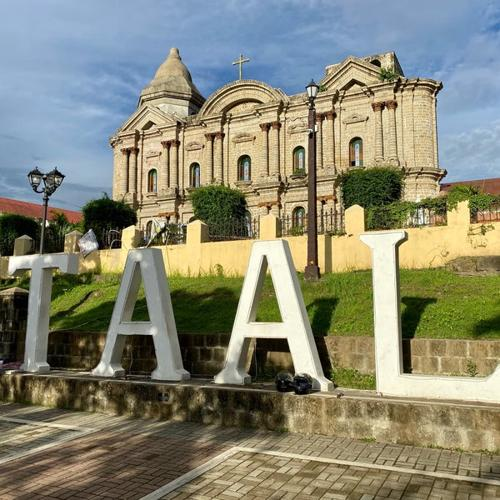Taal Basilica Church: (107, 41, 450, 236)
